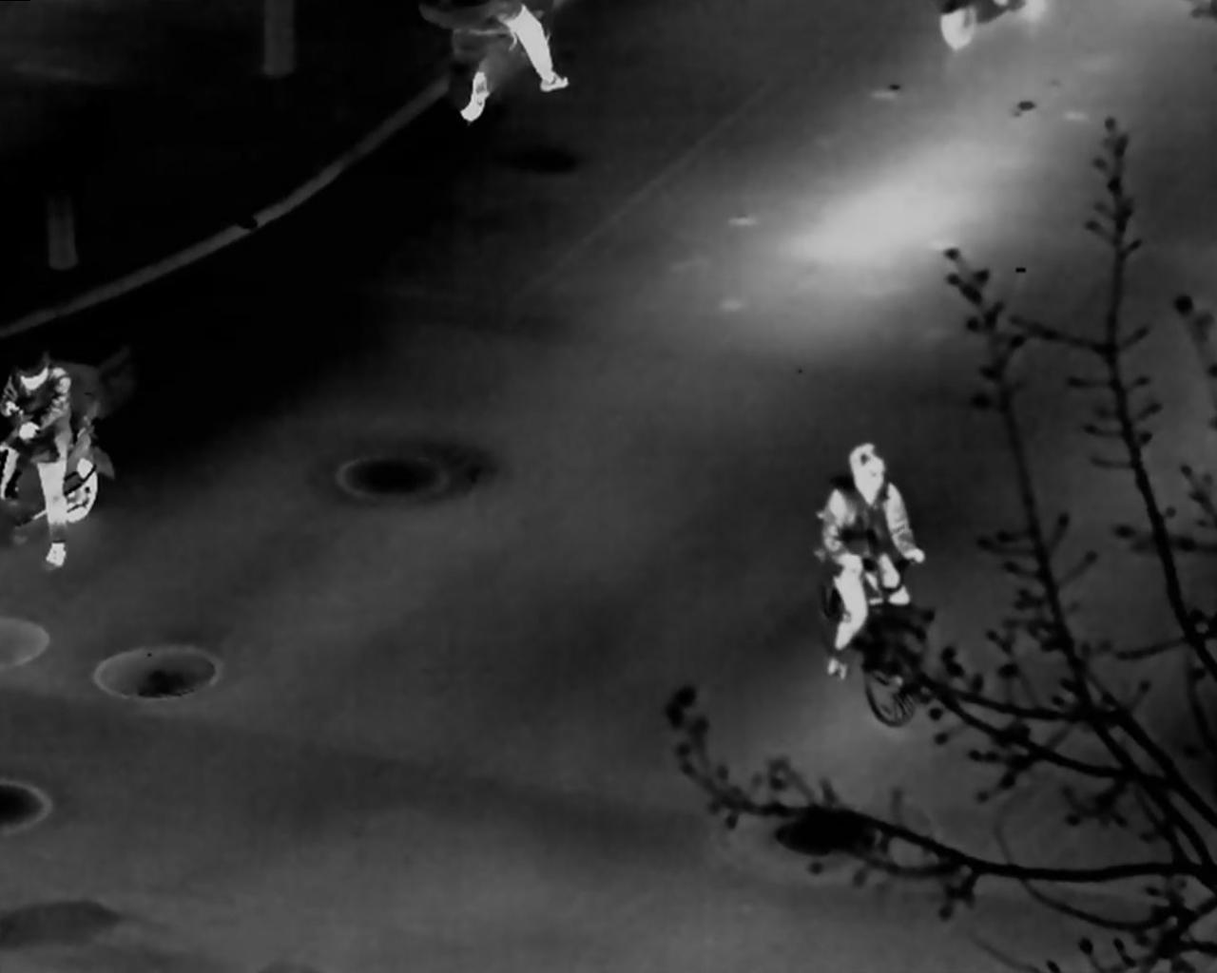person: (823, 442, 924, 679), (2, 352, 72, 567), (421, 2, 570, 93)
